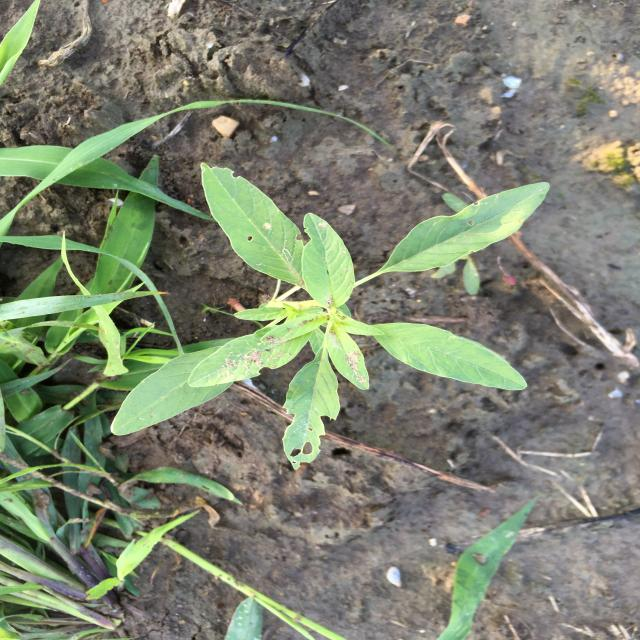Waterhemp: (108, 160, 552, 473)
